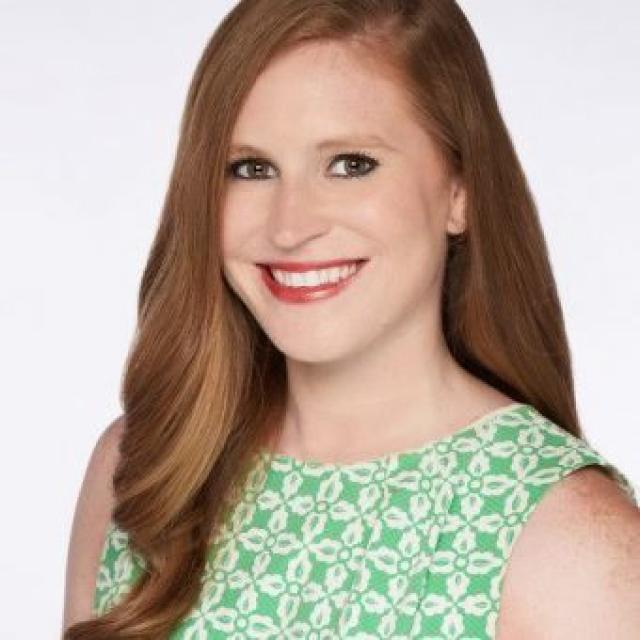mobile_phonerotation: (40, 0, 638, 638)
